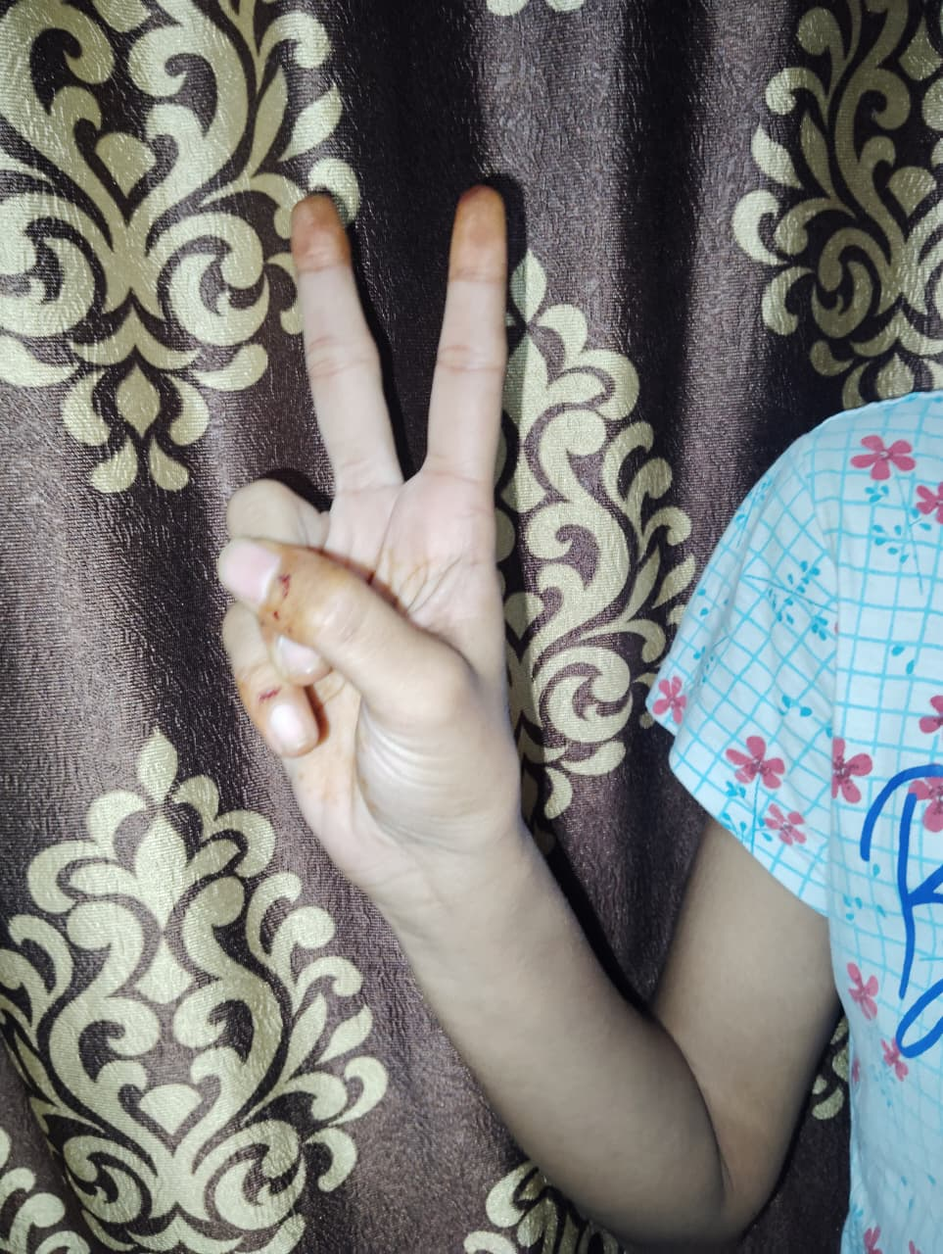V: (222, 191, 529, 860)
